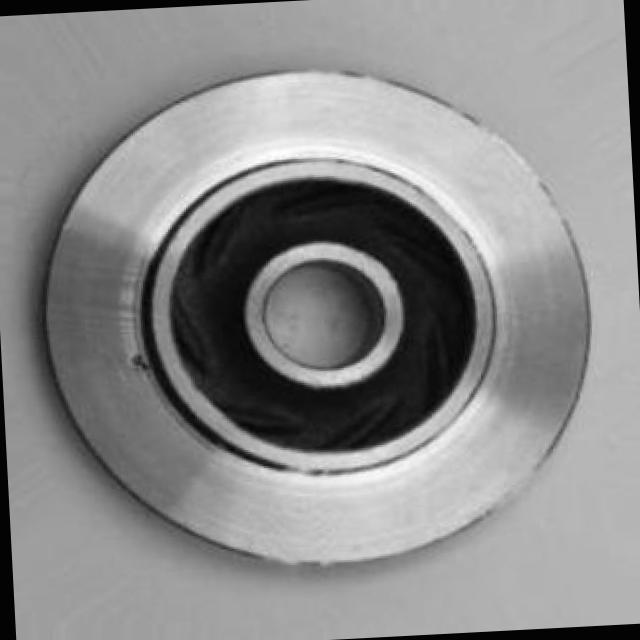Defect: (122, 343, 162, 382)
